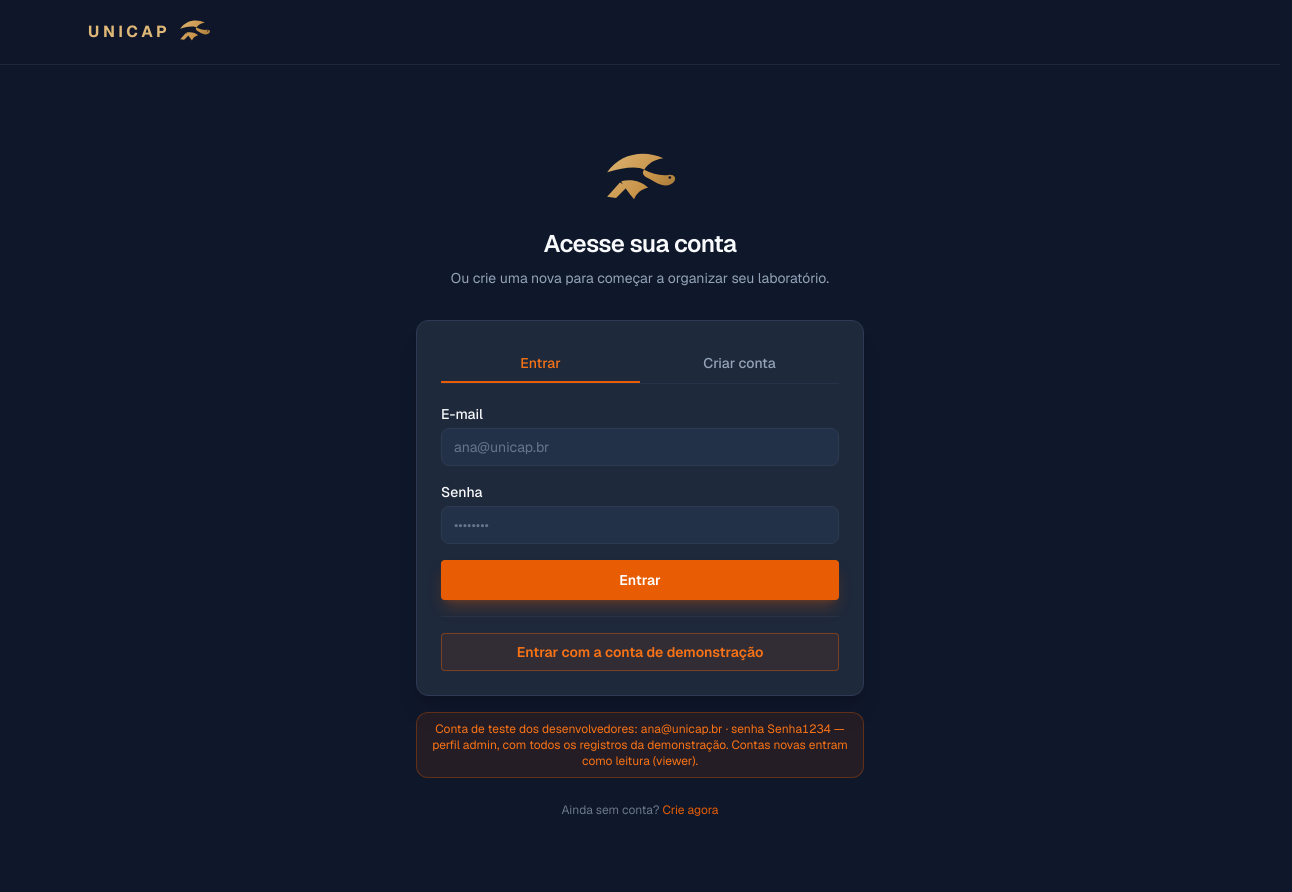
it: Conta nova entra como usuário padrão (sem liberação manual) › usa o site normalmente e pode criar anotações
Expected: the heading "Acesse sua conta" is shown, [544,228,736,258]
Click the button "Criar conta" at (740, 364), box [640,344,839,382]
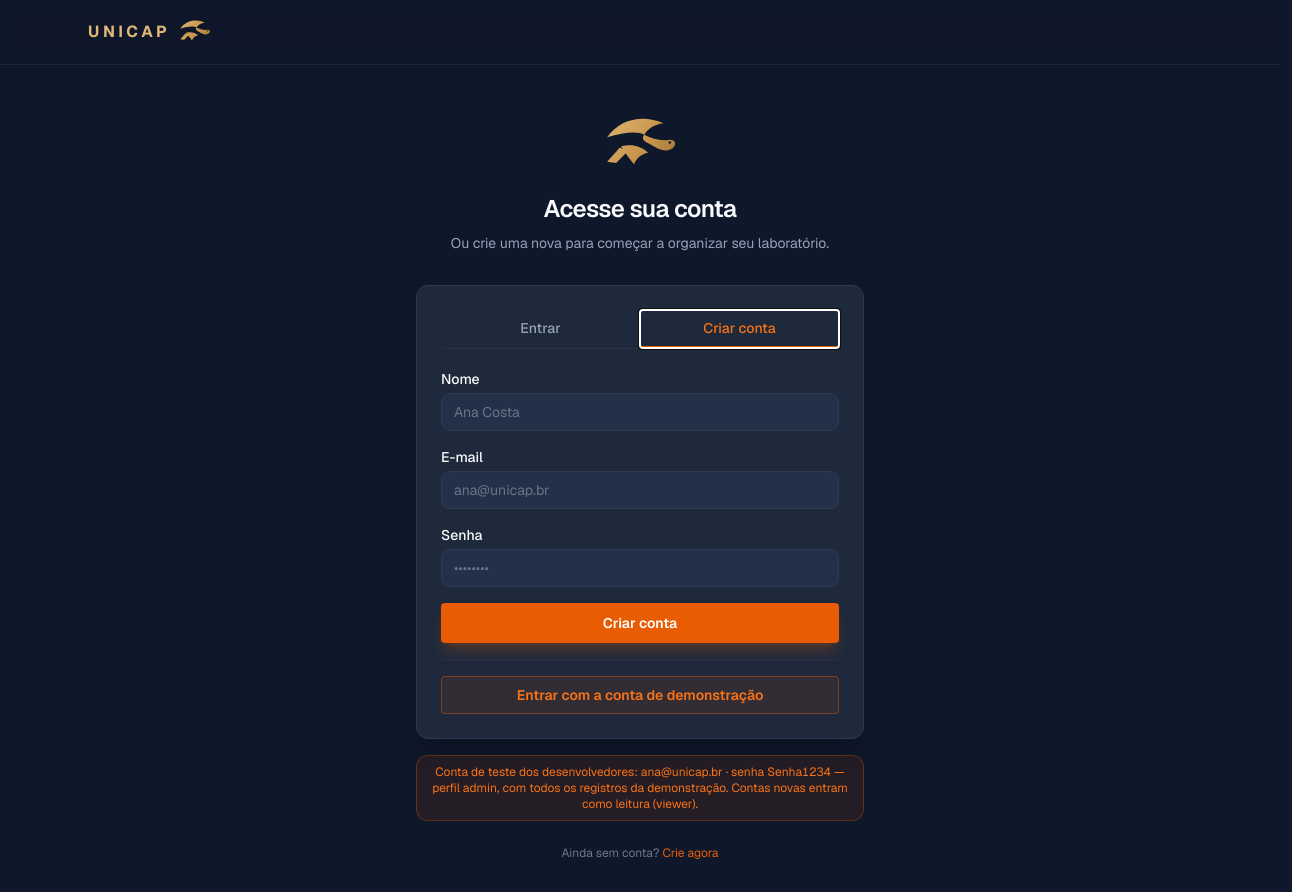
Type "Nova Pessoa" into the field with placeholder "Ana Costa" at (640, 412), box [441,393,839,431]
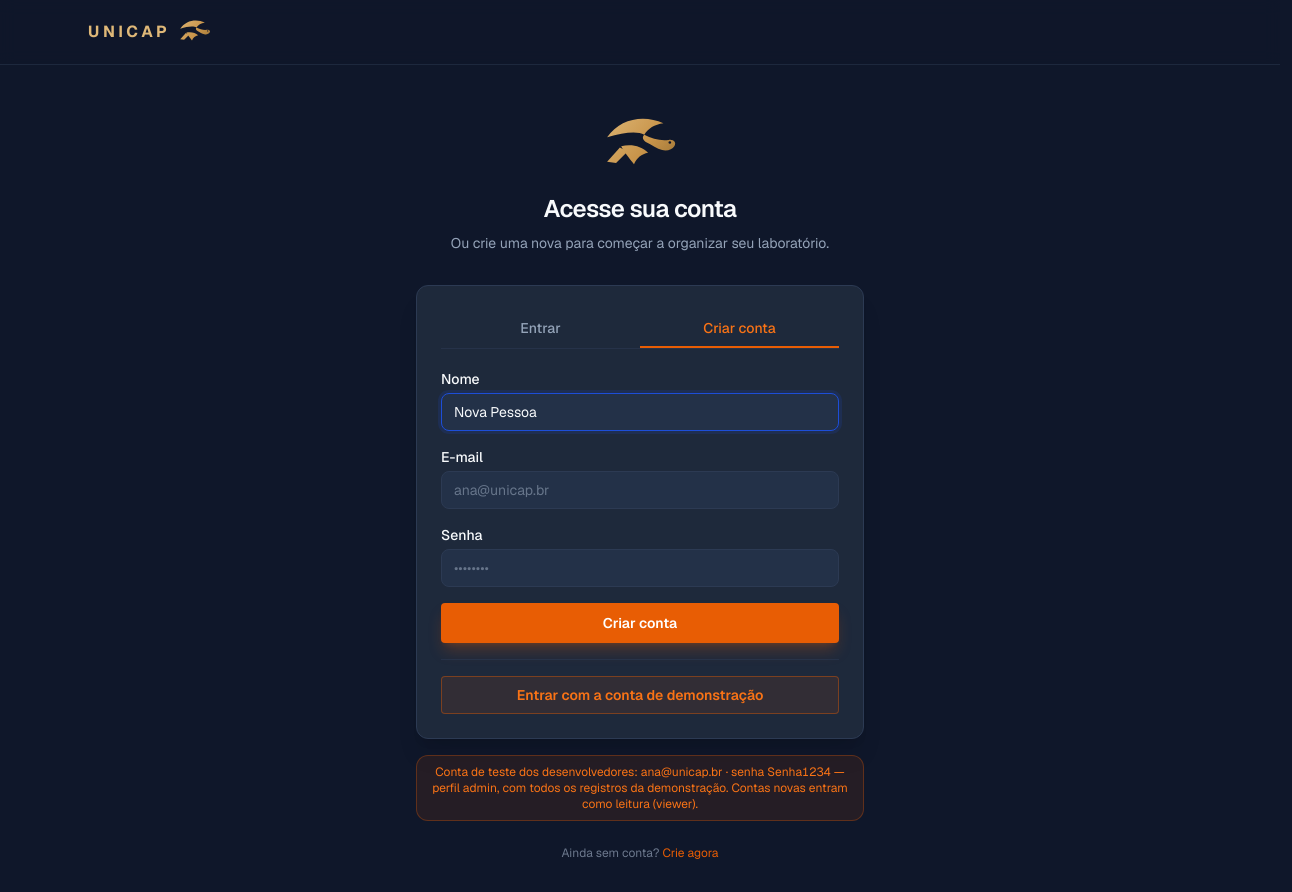
Type "nova@unicap.br" into the field with placeholder "ana@unicap.br" at (640, 490), box [441,471,839,509]
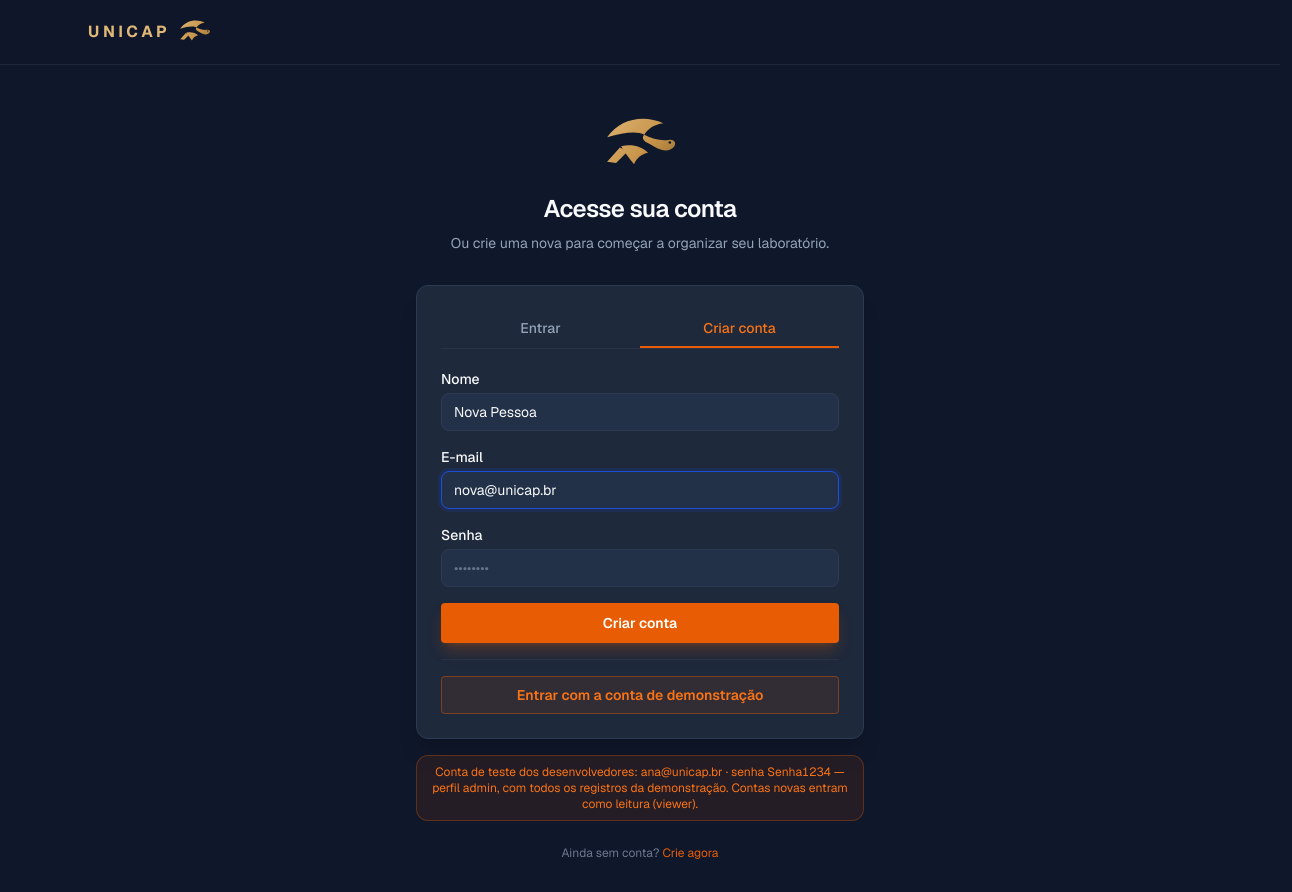
Type "Senha1234" into the password field with placeholder "••••••••" at (640, 568), box [441,549,839,587]
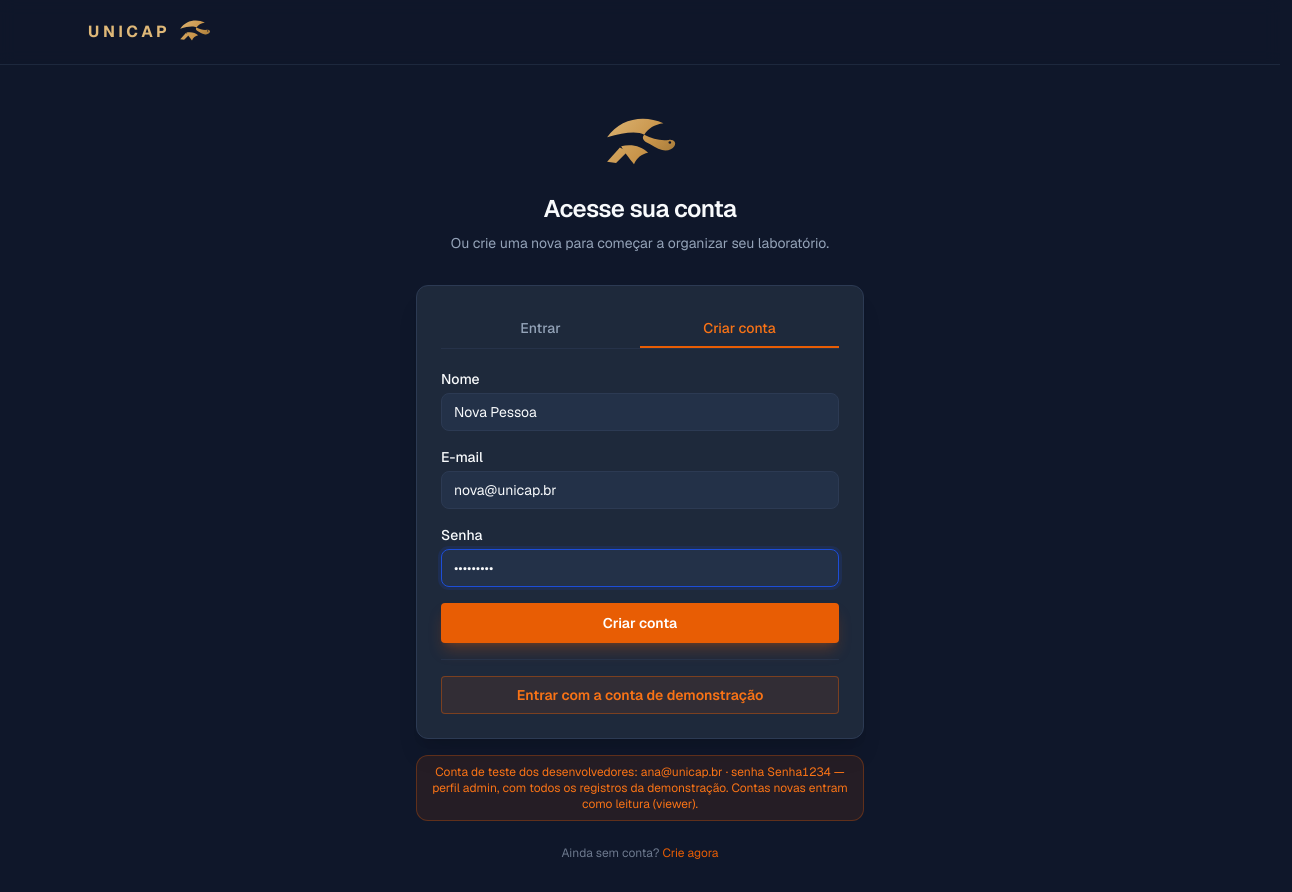
Click the button "Criar conta" below "E-mail" at (640, 623), box [441,603,839,643]
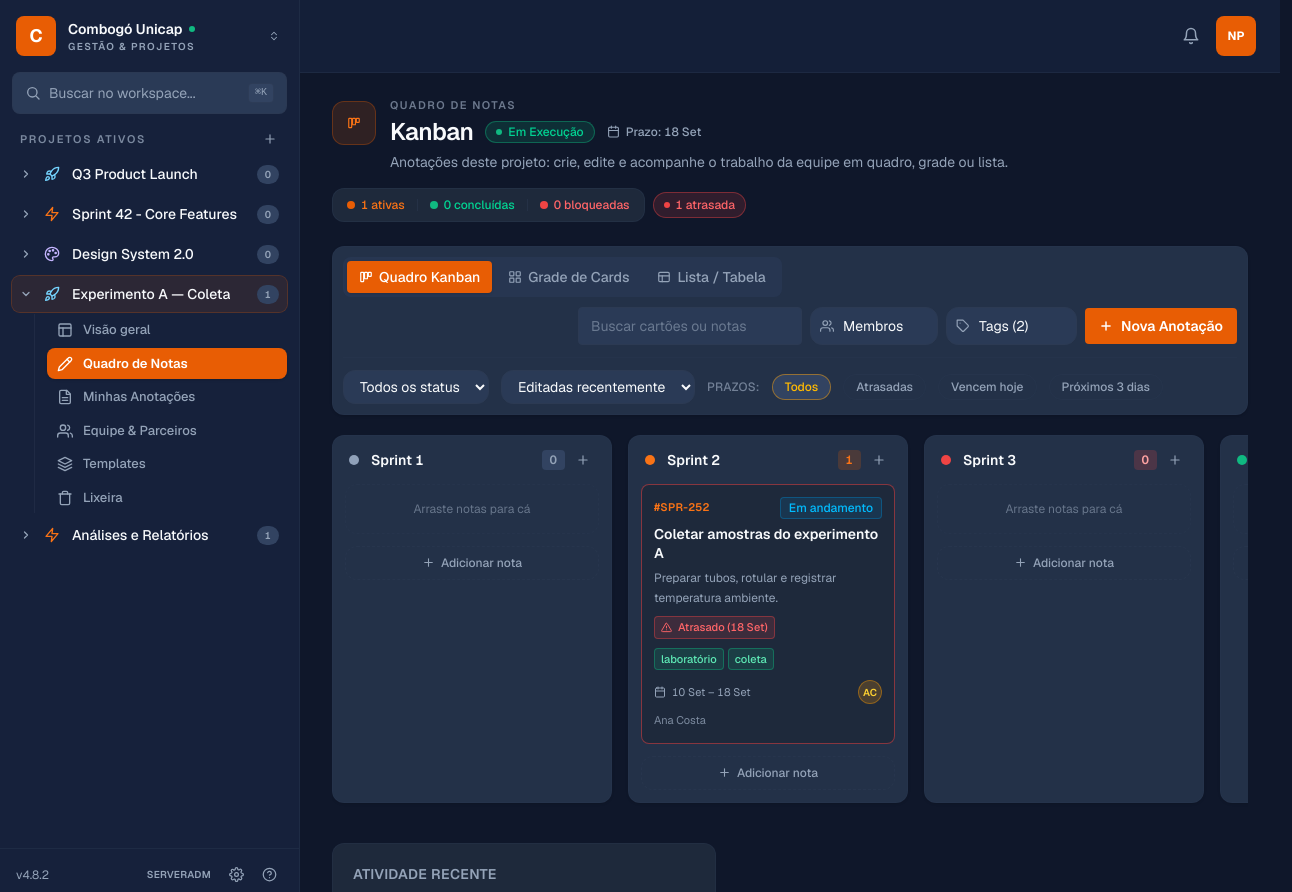
Now the heading "Kanban" is shown, box [390,116,473,148]
Now the button "Nova Anotação" is enabled, box [1085,308,1237,344]
Now the button named "Adicionar nota em" is shown, box [571,448,595,472]
